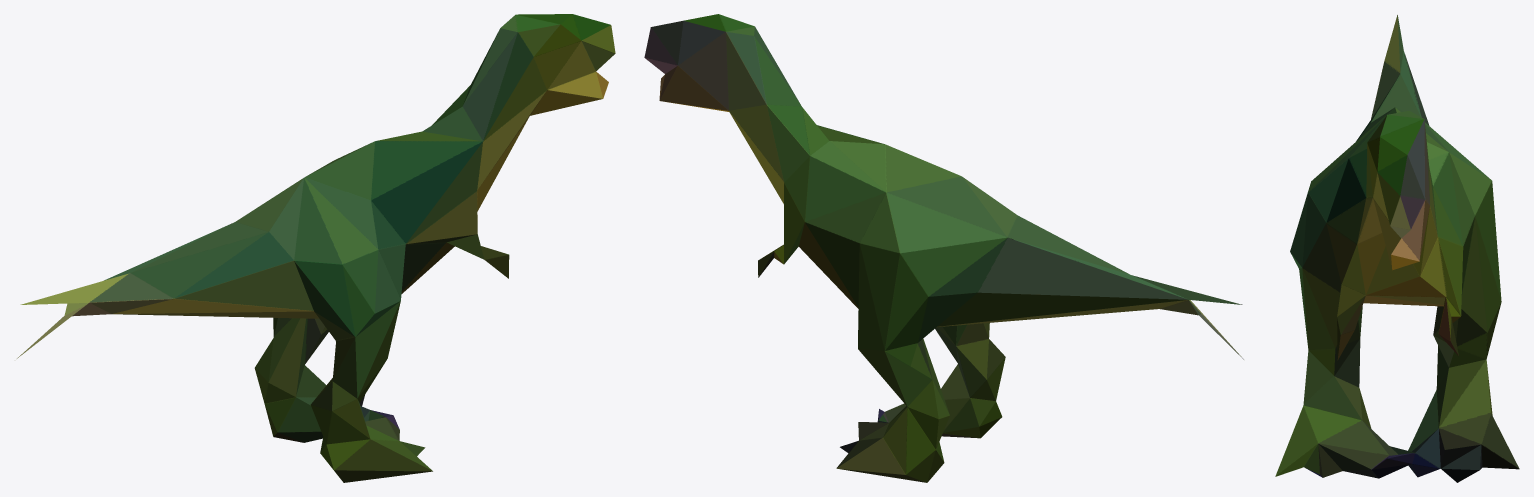
Rendered from dinomodel.fbx.
3 renders of one model, left to right at view 1: azimuth 30°, elevation 25°; view 2: azimuth 150°, elevation 25°; view 3: azimuth 270°, elevation 25°, orthographic. The views are drawn at different scales.
Parts seen in each view (by area): view 1: Mesh_0; view 2: Mesh_0; view 3: Mesh_0.
Part boxes in pixels (x1,y1,x2,y2): Mesh_0: [17, 14, 615, 482]; Mesh_0: [644, 14, 1243, 482]; Mesh_0: [1275, 15, 1519, 482].
Bounding box in the file's own units: 159 × 97.81 × 47.75.
Materials: 1 (1 with a texture image).
